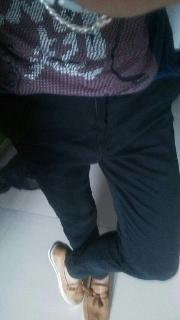short sleeve top: (0, 0, 180, 97)
trousers: (1, 67, 180, 281)
